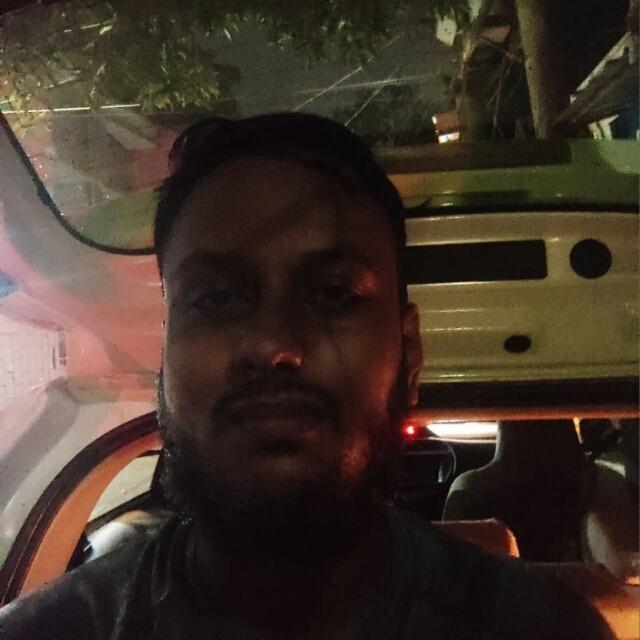Natural: (129, 153, 464, 562)
